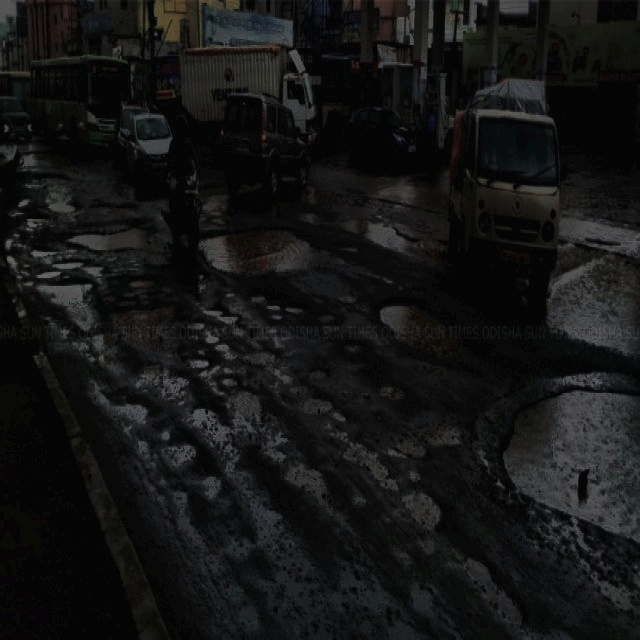Pothole: (496, 370, 639, 546), (198, 223, 318, 280), (454, 548, 530, 632), (374, 292, 462, 364), (332, 210, 440, 268), (36, 272, 100, 330), (113, 296, 179, 346), (61, 219, 155, 252), (397, 477, 442, 536)
